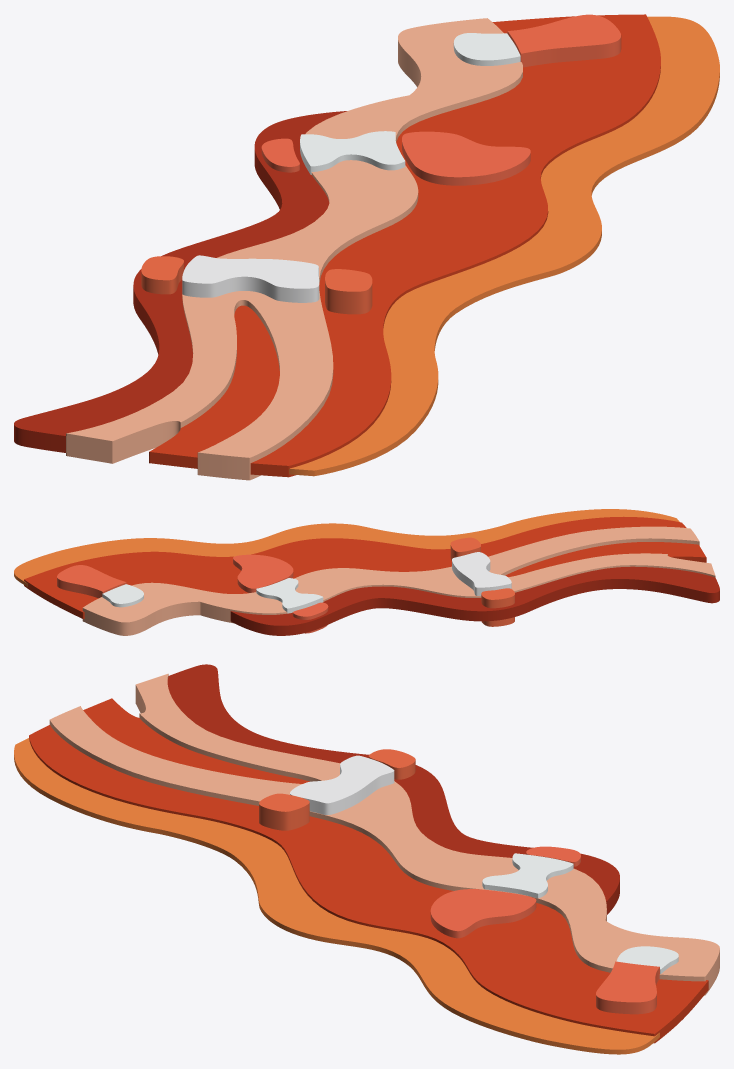
File: emoji_u1f953.glb
The picture shows the model from 3 angles, top to bottom: view 1: azimuth 30°, elevation 25°; view 2: azimuth 150°, elevation 25°; view 3: azimuth 270°, elevation 25°; orthographic projection. The views are drawn at different scales.
Parts seen in each view (by area): view 1: emoji_u1f953; view 2: emoji_u1f953; view 3: emoji_u1f953.
Part boxes in pixels (x1,y1,x2,y2): emoji_u1f953: [14, 14, 719, 480]; emoji_u1f953: [14, 509, 719, 635]; emoji_u1f953: [14, 664, 719, 1054].
Bounding box in the file's own units: 0.0344 × 0.002 × 0.027.
